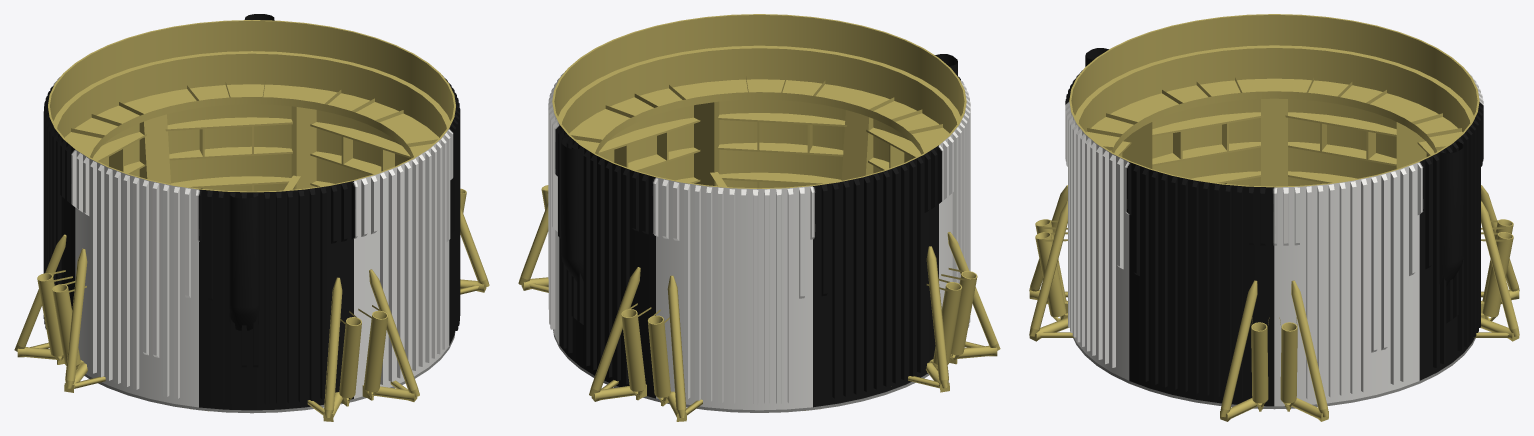
The model's file is S-IC-ThrustStructure.fbx.
The picture shows the model from 3 angles, left to right: view 1: azimuth 30°, elevation 25°; view 2: azimuth 150°, elevation 25°; view 3: azimuth 270°, elevation 25°; orthographic projection.
Visible parts, largest first — view 1: _gimbal_support.001; view 2: _gimbal_support.001; view 3: _gimbal_support.001.
Part boxes in pixels (box(x1,y1,x2,y2)): _gimbal_support.001: box(14, 14, 489, 421); _gimbal_support.001: box(518, 14, 1000, 421); _gimbal_support.001: box(1029, 14, 1519, 421).
Size of the model in its own units: 1203 by 603 by 1203.
